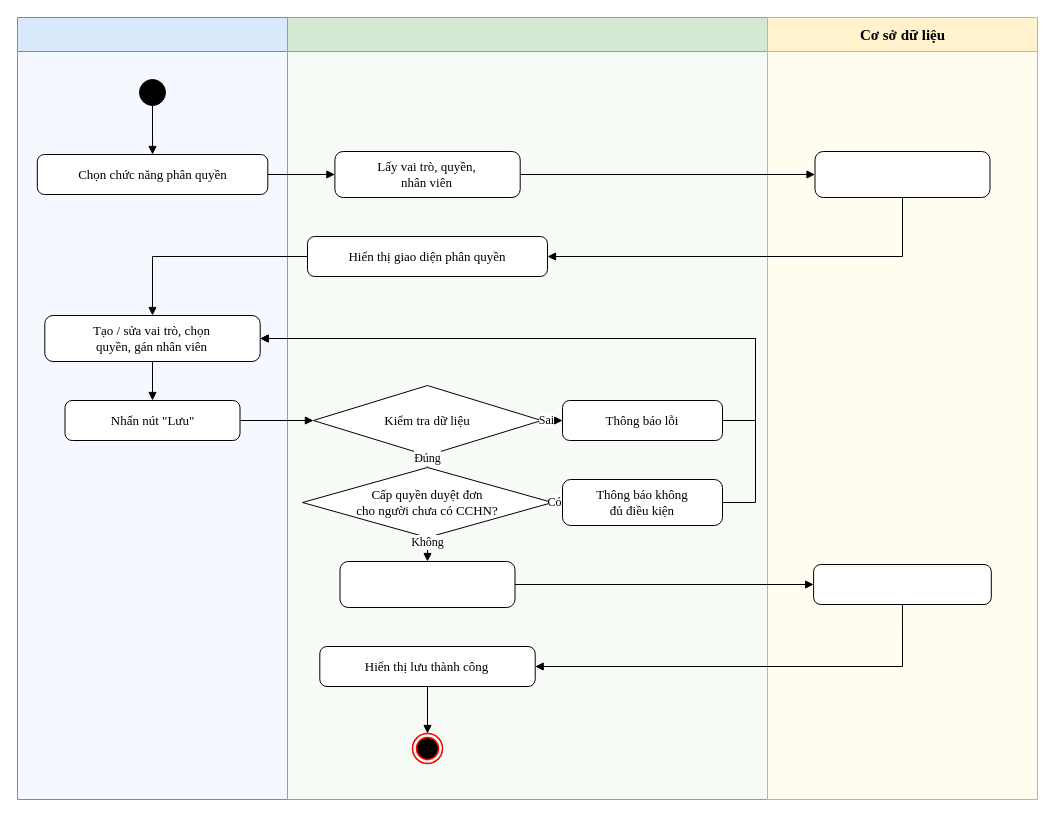
This 1055x817 diagram has some shape labels left out. The shapes that lost their labels are listed below. From the top down, each one's box as (x1, y1, x2, y2) in pixels, then its label:
(814, 150, 990, 198): Truy vấn vai trò, nhân viên
(16, 16, 288, 800): Quản trị viên
(286, 16, 768, 800): Hệ thống
(339, 560, 515, 608): Gửi lệnh cập nhật vai trò, quyền
(813, 564, 991, 604): Lưu vai trò, quyền
